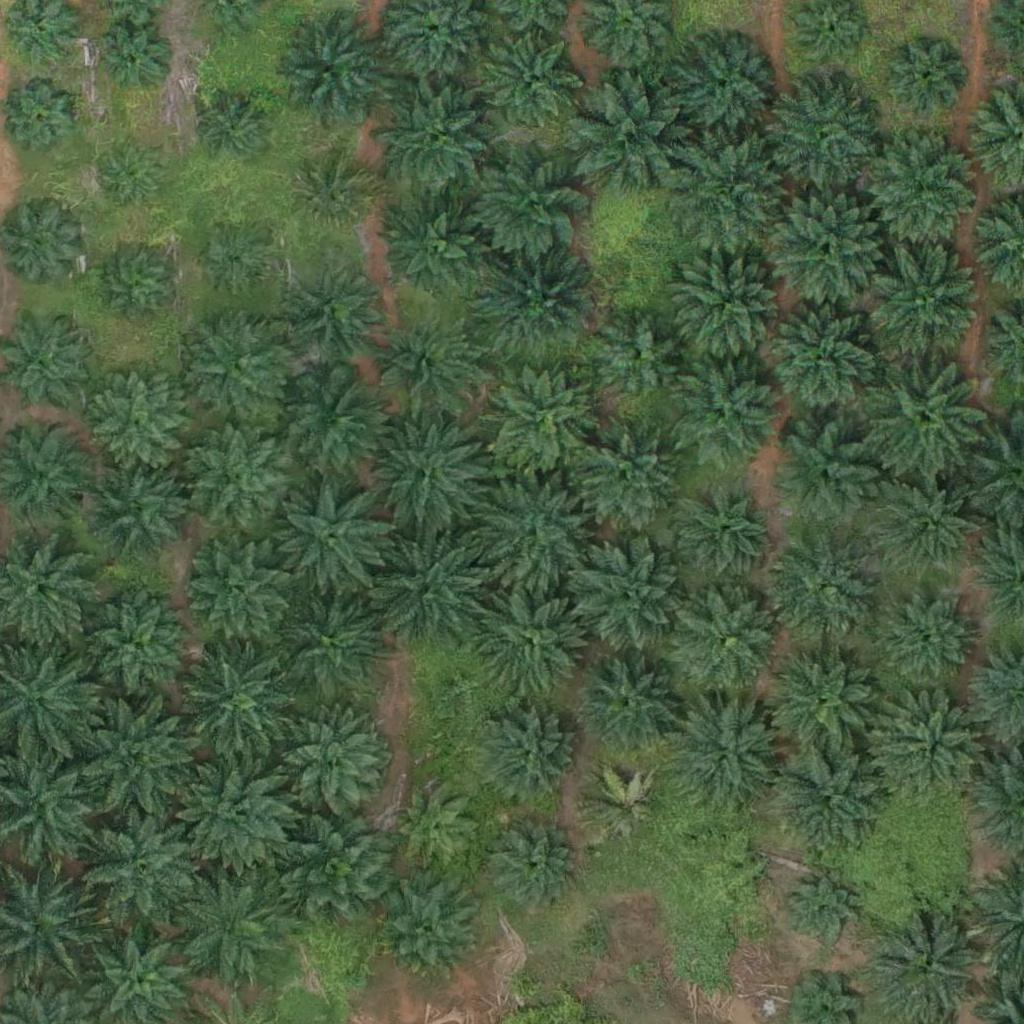Kelapa_Sawit: (266, 10, 391, 136), (268, 476, 393, 602), (373, 71, 498, 197), (468, 141, 593, 267), (565, 74, 690, 200), (668, 133, 793, 259), (762, 298, 887, 424), (863, 240, 988, 366), (862, 355, 987, 481), (266, 698, 391, 824), (271, 800, 396, 926), (170, 638, 295, 764), (167, 747, 292, 873), (164, 864, 289, 990), (68, 581, 193, 707), (73, 691, 198, 817), (73, 801, 198, 927), (674, 251, 787, 365), (766, 536, 879, 650), (276, 367, 389, 480), (372, 421, 485, 534), (672, 356, 785, 469), (665, 474, 778, 587), (766, 422, 879, 535), (866, 133, 979, 246), (876, 696, 989, 809), (766, 645, 879, 758), (770, 746, 883, 859), (474, 581, 587, 694), (470, 694, 583, 807), (368, 533, 481, 646), (769, 189, 881, 303), (874, 468, 986, 582), (182, 307, 294, 420), (184, 422, 296, 535), (382, 193, 494, 306), (369, 309, 481, 422), (481, 246, 593, 359), (486, 365, 598, 478), (479, 475, 591, 588), (567, 420, 679, 533), (764, 74, 876, 187), (671, 585, 783, 698), (670, 699, 782, 812), (571, 536, 683, 649), (273, 586, 385, 699), (182, 538, 294, 651), (481, 814, 581, 915), (386, 774, 486, 875), (87, 374, 187, 474), (86, 462, 186, 562), (482, 31, 582, 131), (672, 37, 772, 137), (874, 592, 974, 692), (377, 873, 477, 973), (579, 763, 667, 852), (94, 242, 182, 330), (596, 312, 684, 400), (586, 664, 674, 752), (291, 265, 378, 353), (297, 158, 372, 233), (890, 39, 965, 114), (5, 83, 80, 158), (93, 27, 168, 102), (194, 94, 269, 169), (200, 224, 275, 299), (786, 872, 861, 947), (99, 146, 161, 209)
